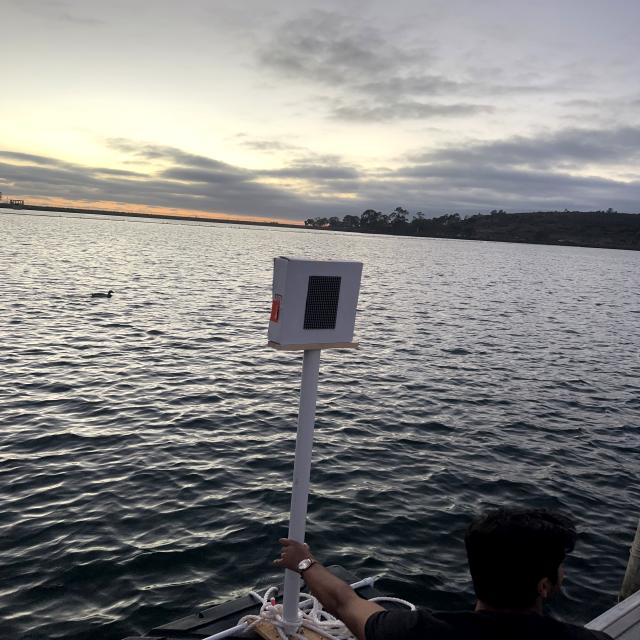led: (286, 257, 353, 346)
